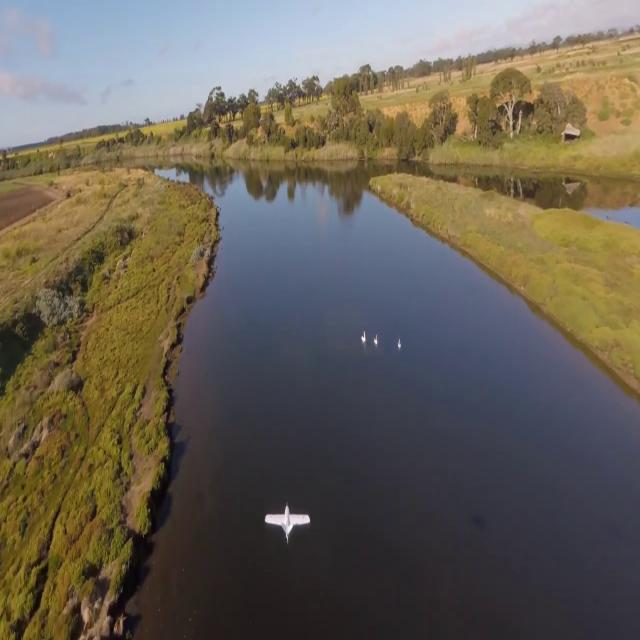iha: (265, 497, 309, 537)
